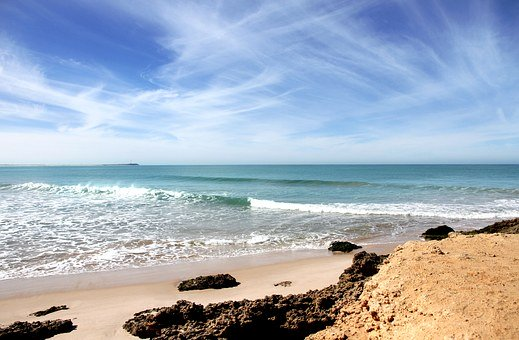beach: (3, 168, 519, 337)
sky: (1, 4, 517, 165)
